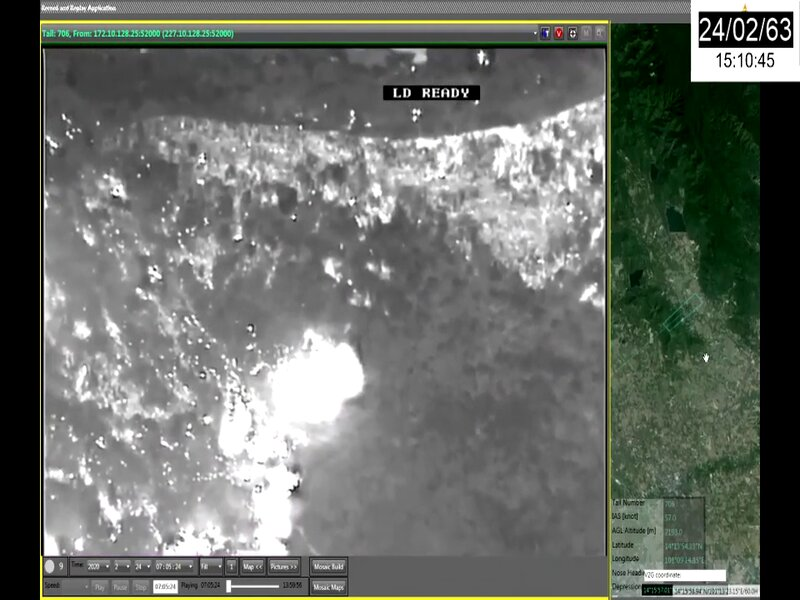Fire: (161, 329, 365, 555)
